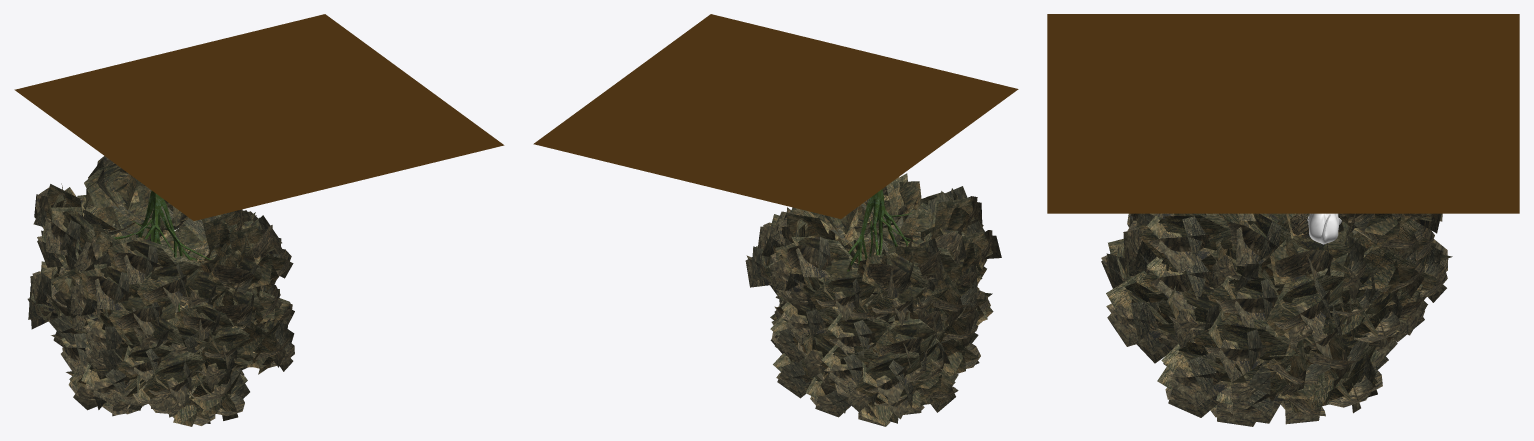
Rendered from environmentday.glb.
3 views of the same model, side by side, from view 1: azimuth 30°, elevation 25°; view 2: azimuth 150°, elevation 25°; view 3: azimuth 270°, elevation 25° (orthographic). The views are drawn at different scales.
Parts seen in each view (by area): view 1: Plane, tree pack 006.001; view 2: Plane, tree pack 006.001; view 3: Plane, tree pack 006.001, Elephant.
Boxes of the visible parts, x1,y1,x2,y2 form: Plane: (14,14,504,220); tree pack 006.001: (27,156,294,426); Plane: (533,14,1018,218); tree pack 006.001: (745,173,1001,426); Plane: (1047,14,1519,213); tree pack 006.001: (1101,213,1452,426); Elephant: (1307,213,1341,244).
Size of the model in its own units: 28.04 by 20.79 by 24.47.
8 materials, 2 textured.
